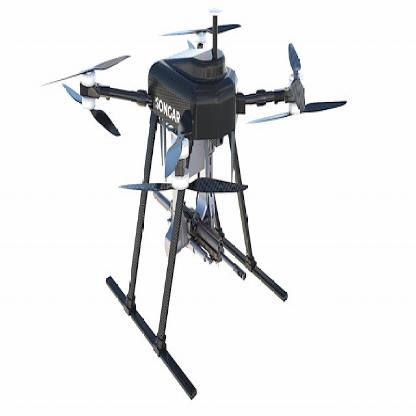drone: (53, 29, 356, 205)
